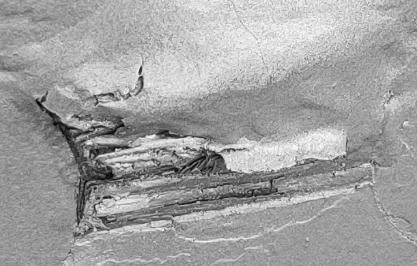paint-off: (1, 0, 417, 266)
